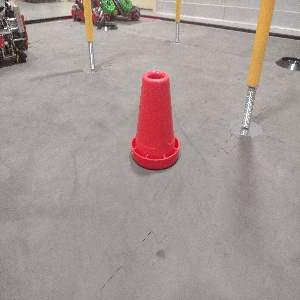Red_1: (131, 69, 180, 170)
